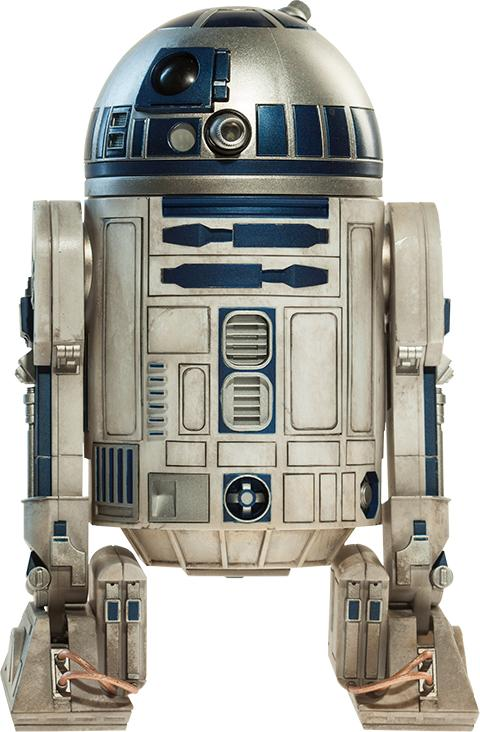r2d2: (5, 2, 476, 724)
